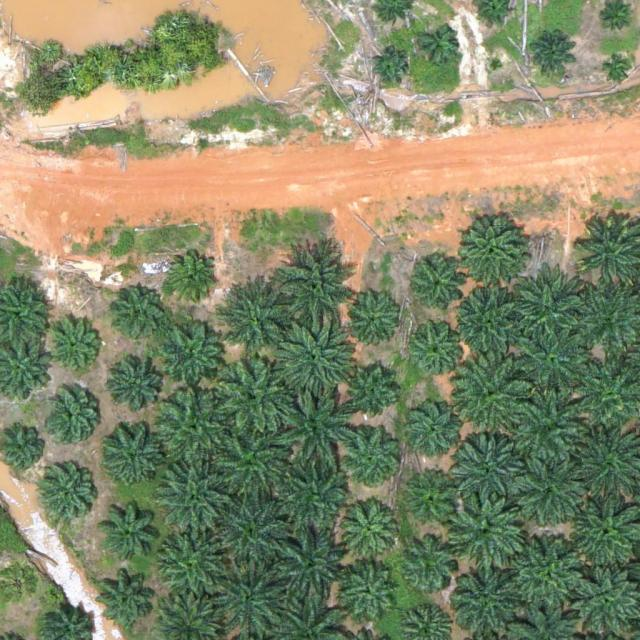Healthy: (508, 536, 586, 615), (513, 391, 591, 470), (516, 323, 594, 402), (512, 273, 590, 352), (452, 286, 530, 365), (451, 429, 529, 508), (449, 494, 527, 573), (270, 525, 348, 604), (278, 244, 356, 323), (275, 319, 353, 398), (276, 389, 354, 468), (278, 461, 356, 540), (221, 279, 299, 358), (218, 357, 296, 436), (214, 421, 292, 500), (214, 492, 292, 571), (212, 559, 290, 638), (157, 387, 235, 466), (511, 455, 589, 533), (459, 355, 537, 433), (455, 215, 525, 286), (158, 523, 228, 593), (158, 460, 228, 530), (97, 566, 160, 629), (342, 287, 405, 349), (341, 430, 403, 493), (338, 499, 400, 562), (336, 561, 398, 624), (163, 324, 225, 387), (98, 499, 160, 562), (101, 425, 163, 487), (401, 536, 456, 591), (408, 399, 463, 454), (412, 322, 467, 377), (345, 368, 400, 423), (164, 251, 219, 306), (114, 287, 169, 342), (110, 361, 165, 416), (48, 321, 103, 376), (46, 392, 101, 447), (41, 469, 96, 524), (408, 473, 462, 528), (412, 260, 466, 315)
Small: (529, 30, 576, 77), (413, 22, 460, 69), (370, 50, 410, 89), (600, 3, 631, 34), (604, 54, 635, 85)
